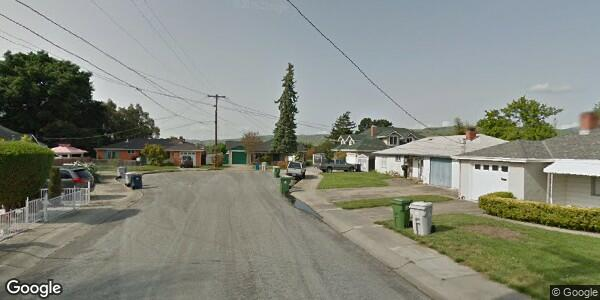Wood_Pole: (205, 90, 227, 173)
